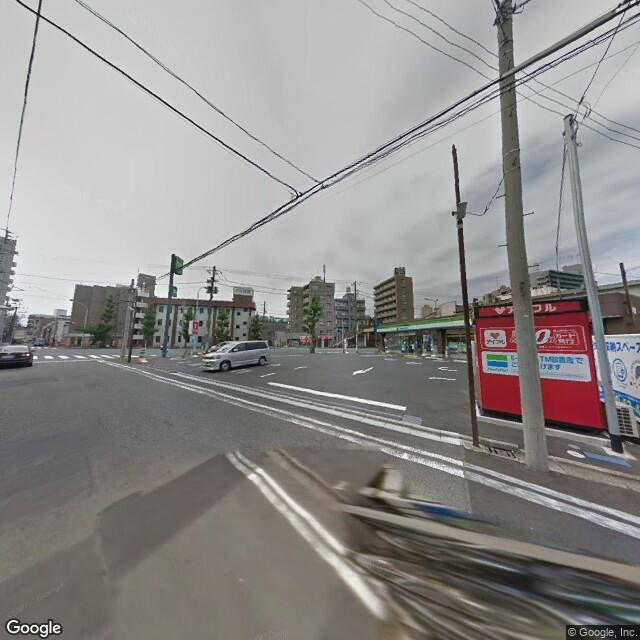family_mart: (377, 314, 464, 334), (484, 350, 509, 374)
